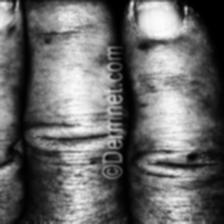Unclassified: (141, 40, 205, 224), (41, 9, 91, 224)
